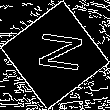N_W: (27, 31, 83, 79)
